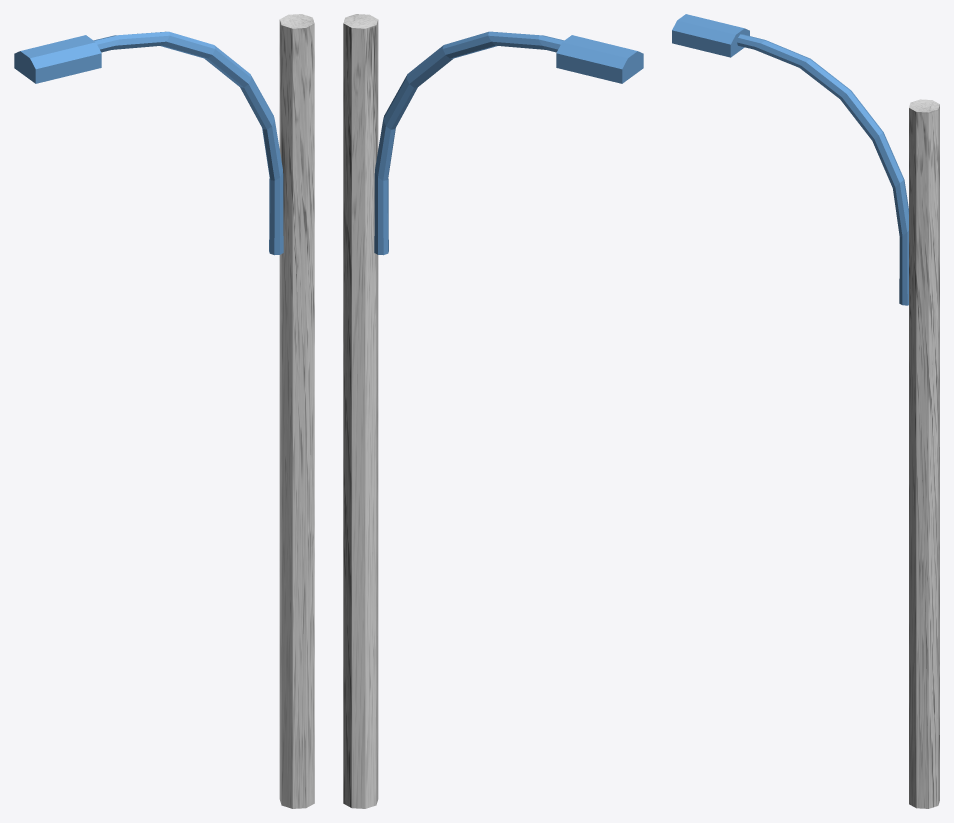
File: StreetLamp.fbx
3 renders of one model, left to right at view 1: azimuth 30°, elevation 25°; view 2: azimuth 150°, elevation 25°; view 3: azimuth 330°, elevation 25°, orthographic. The views are drawn at different scales.
Visible parts, largest first — view 1: Streetlamp; view 2: Streetlamp; view 3: Streetlamp.
Boxes of the visible parts, x1=… form: Streetlamp: x1=14, y1=14, x2=314, y2=808; Streetlamp: x1=343, y1=14, x2=643, y2=808; Streetlamp: x1=672, y1=14, x2=939, y2=808.
Bounding box in the file's own units: 304 × 821 × 39.15.
